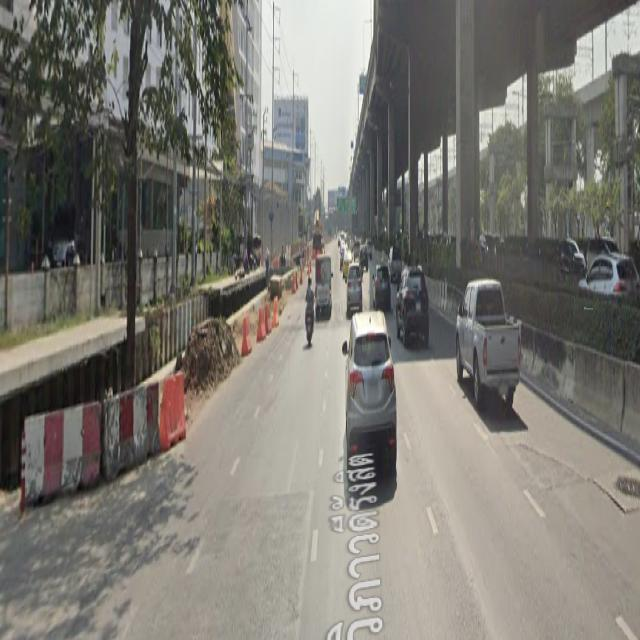fallen_object: (2, 367, 203, 480), (225, 277, 294, 365)
